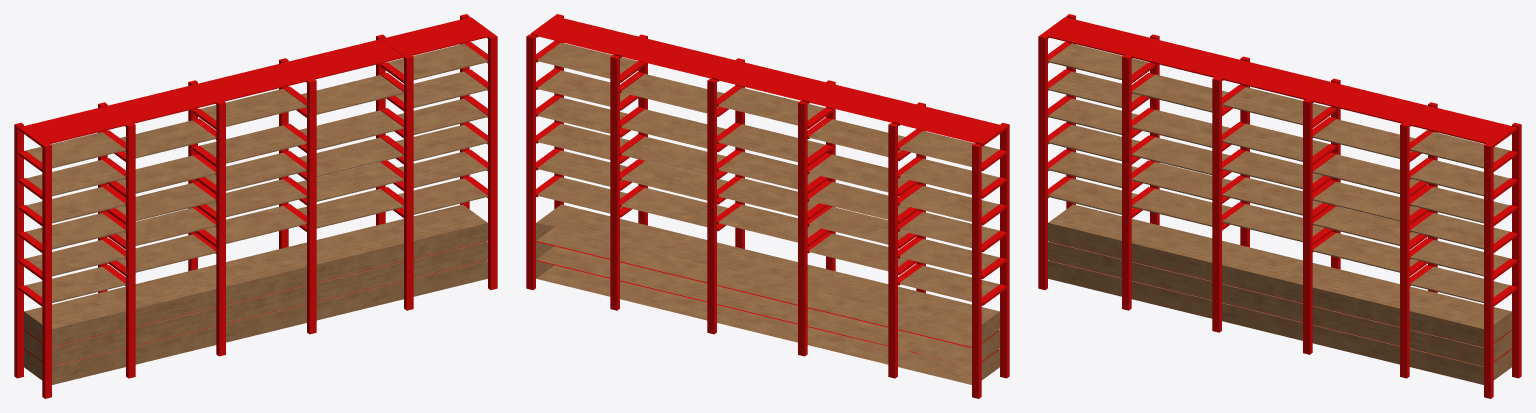
Rendered from StoreRack.fbx.
The picture shows the model from 3 angles, left to right: view 1: azimuth 30°, elevation 25°; view 2: azimuth 150°, elevation 25°; view 3: azimuth 330°, elevation 25°; orthographic projection.
Visible parts, largest first — view 1: StoreRack; view 2: StoreRack; view 3: StoreRack.
Part boxes in pixels (x1,y1,x2,y2): StoreRack: (14, 14, 497, 398); StoreRack: (526, 14, 1009, 398); StoreRack: (1038, 14, 1521, 398).
Bounding box in the file's own units: 667 × 355 × 78.6.
